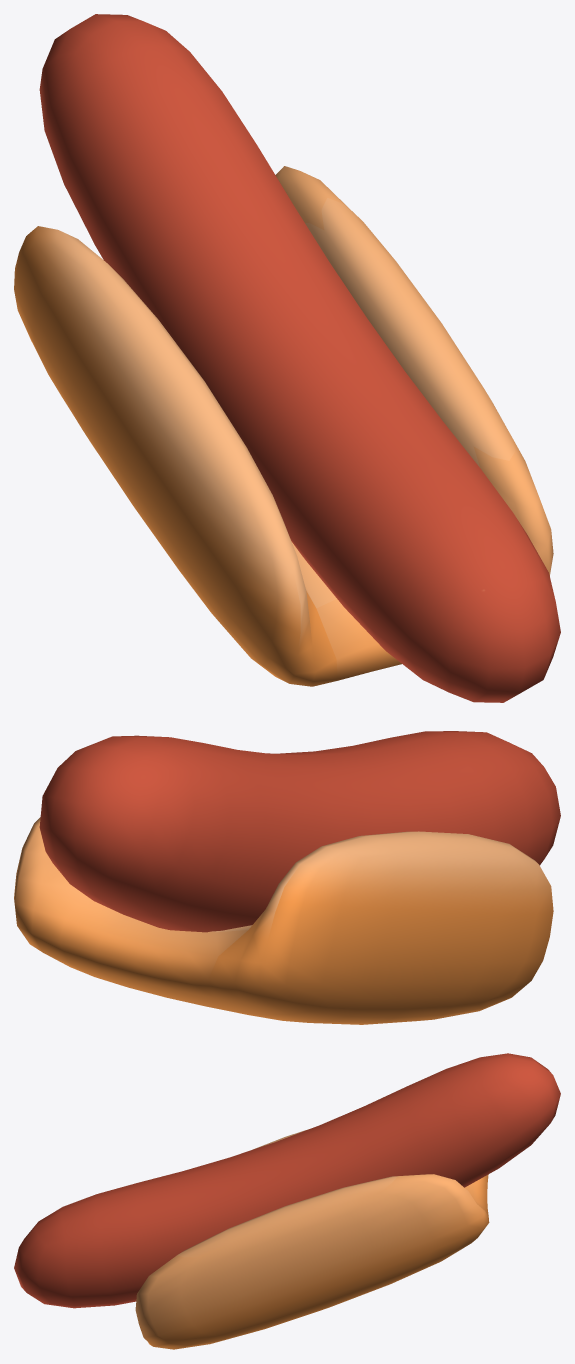
The model's file is Assets_Comida_HotDog.fbx.
The picture shows the model from 3 angles, top to bottom: view 1: azimuth 30°, elevation 25°; view 2: azimuth 150°, elevation 25°; view 3: azimuth 270°, elevation 25°; orthographic projection. The views are drawn at different scales.
Parts seen in each view (by area): view 1: HotDog; view 2: HotDog; view 3: HotDog.
Part boxes in pixels (x1=…): HotDog: x1=14, y1=14, x2=560, y2=702; HotDog: x1=14, y1=731, x2=560, y2=1024; HotDog: x1=14, y1=1053, x2=560, y2=1349.
Bounding box in the file's own units: 35.76 × 46.91 × 88.14.
Materials: 1 (1 with a texture image).
